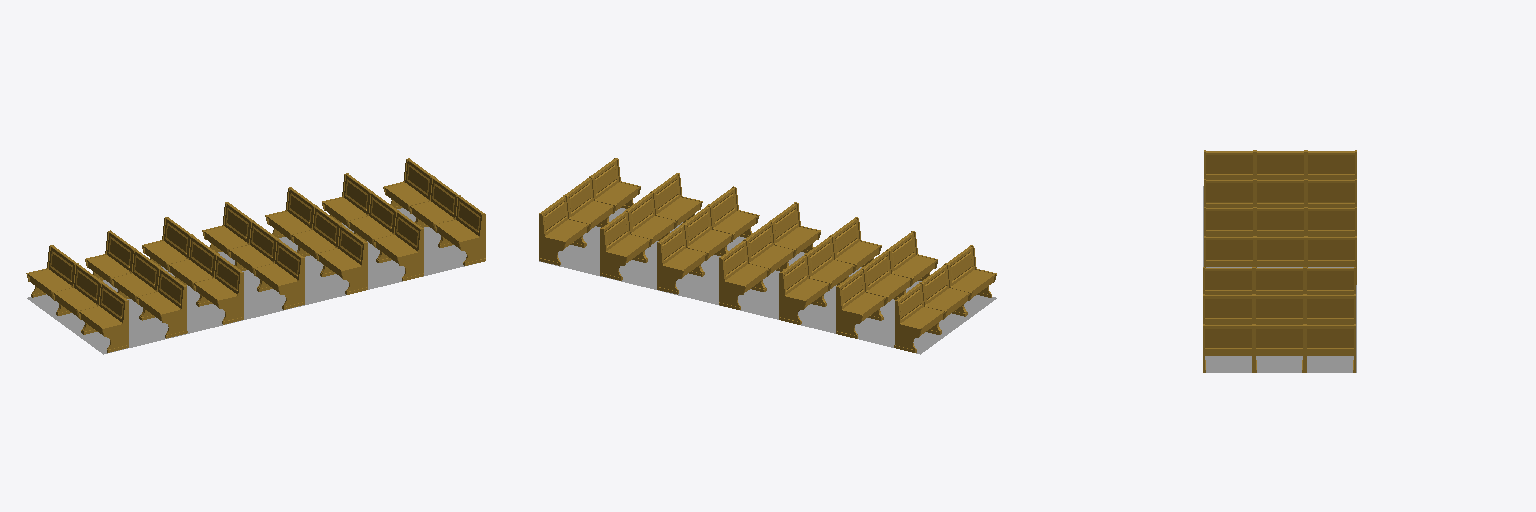
The model's file is bancos.obj.
3 views of the same model, side by side, from view 1: azimuth 30°, elevation 25°; view 2: azimuth 150°, elevation 25°; view 3: azimuth 270°, elevation 25° (orthographic).
Visible parts, largest first — view 1: ground_1, sx_58, sx_103, sx_73, sx_13, sx_88, sx_43, sx_28, schienale_32, schienale_37, schienale_57, schienale_77 (+17 smaller); view 2: ground_1, dx_34, dx_79, dx_19, dx_64, dx_94, dx_49, dx_4, schienale_102, schienale_2, schienale_22, schienale_37 (+17 smaller); view 3: ground_1, schienale_77, schienale_82, schienale_87, schienale_92, schienale_97, schienale_102, schienale_2, schienale_7, schienale_12, schienale_47, schienale_52 (+10 smaller).
Boxes of the visible parts, x1,y1,x2,y2 form: ground_1: [27, 208, 476, 354]; sx_58: [278, 257, 304, 309]; sx_103: [458, 213, 485, 265]; sx_73: [341, 242, 367, 294]; sx_13: [102, 300, 128, 352]; sx_88: [397, 228, 423, 280]; sx_43: [217, 272, 243, 324]; sx_28: [160, 285, 187, 338]; schienale_32: [164, 218, 191, 256]; schienale_37: [189, 236, 215, 275]; schienale_57: [275, 240, 302, 279]; schienale_77: [344, 174, 370, 213]; ground_1: [539, 208, 996, 354]; dx_34: [779, 272, 806, 324]; dx_79: [600, 228, 626, 280]; dx_19: [836, 286, 862, 338]; dx_64: [657, 242, 683, 294]; dx_94: [539, 213, 565, 265]; dx_49: [719, 257, 745, 309]; dx_4: [894, 300, 921, 352]; schienale_102: [591, 159, 618, 198]; schienale_2: [897, 283, 923, 322]; schienale_22: [863, 251, 890, 289]; schienale_37: [806, 237, 833, 275]; ground_1: [1203, 186, 1356, 372]; schienale_77: [1306, 295, 1354, 317]; schienale_82: [1255, 295, 1303, 317]; schienale_87: [1204, 295, 1252, 317]; schienale_92: [1306, 325, 1354, 347]; schienale_97: [1255, 325, 1303, 347]; schienale_102: [1204, 325, 1252, 347]; schienale_2: [1307, 151, 1355, 173]; schienale_7: [1256, 151, 1304, 173]; schienale_12: [1205, 151, 1253, 173]; schienale_47: [1307, 237, 1355, 259]; schienale_52: [1256, 237, 1304, 259].
Bounding box in the file's own units: 722 × 85 × 253.